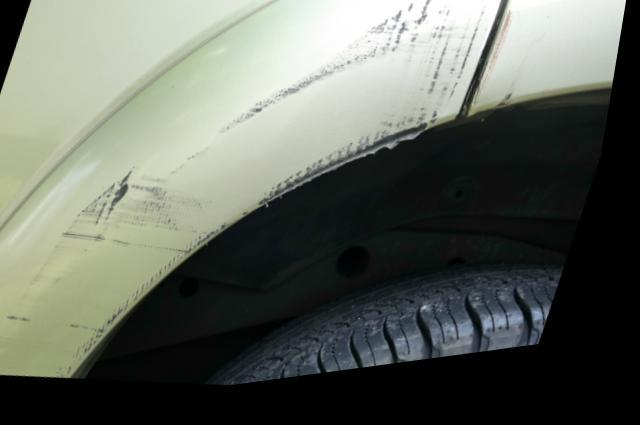rub: (0, 2, 499, 381)
